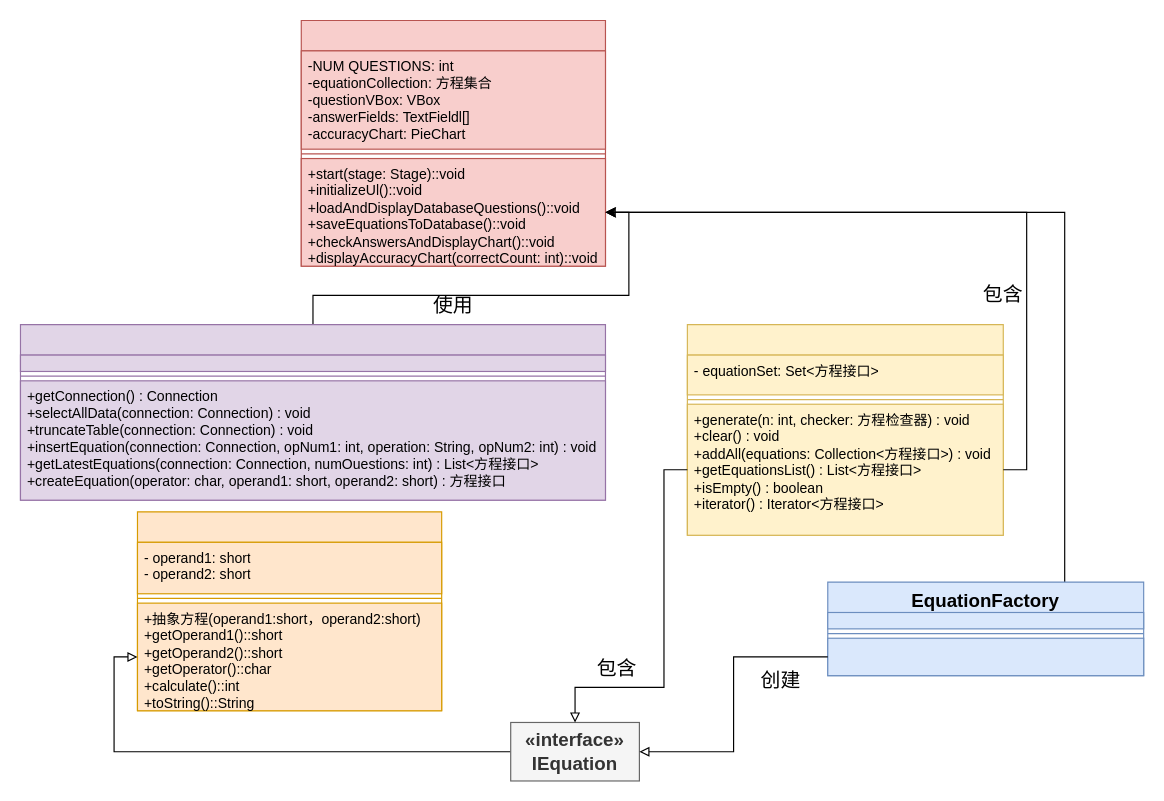
This 1164x801 diagram has some shape labels left out. The box of each missing label's shape, as (x1, y1, x2, y2) in pixels:
+getEquationRandom() : 方程接口: (827, 637, 1144, 676)
AbstractEquation: (136, 511, 442, 711)
EquationApplication: (300, 19, 605, 266)
EquationCollection: (686, 324, 1003, 535)
MySQLUtil: (19, 324, 605, 500)
